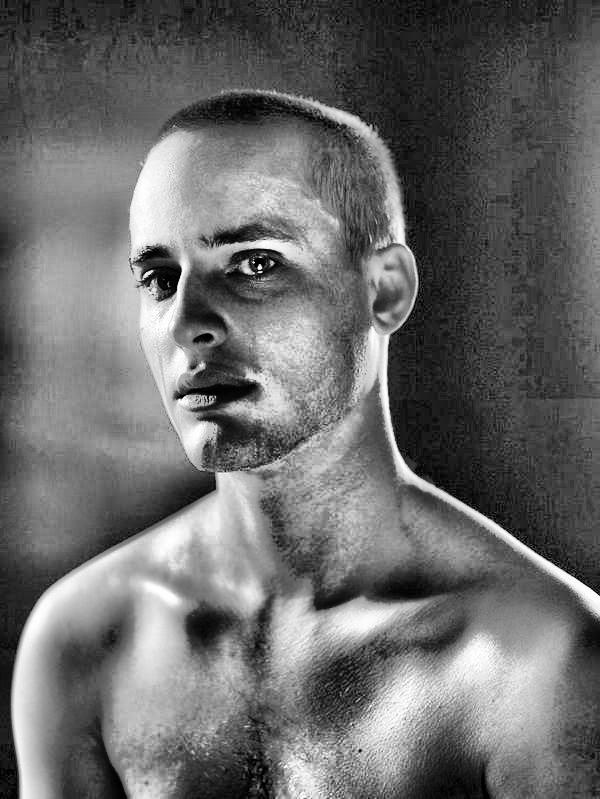sad: (126, 179, 351, 469)
